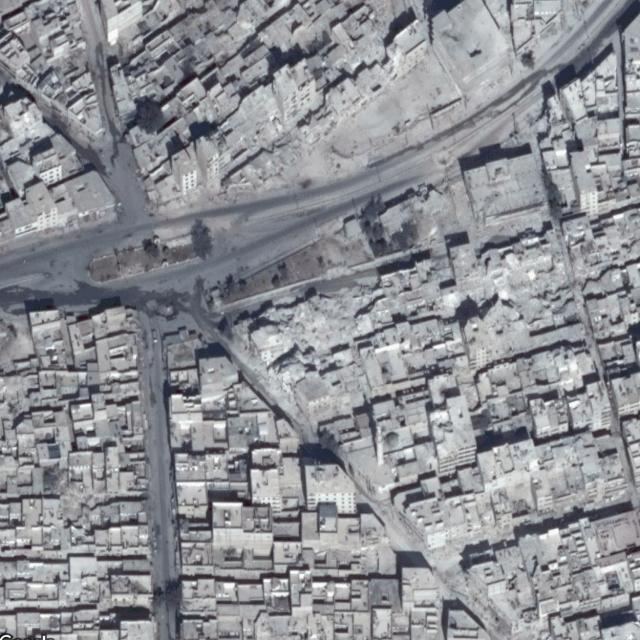damaged_building: (227, 203, 640, 420)
